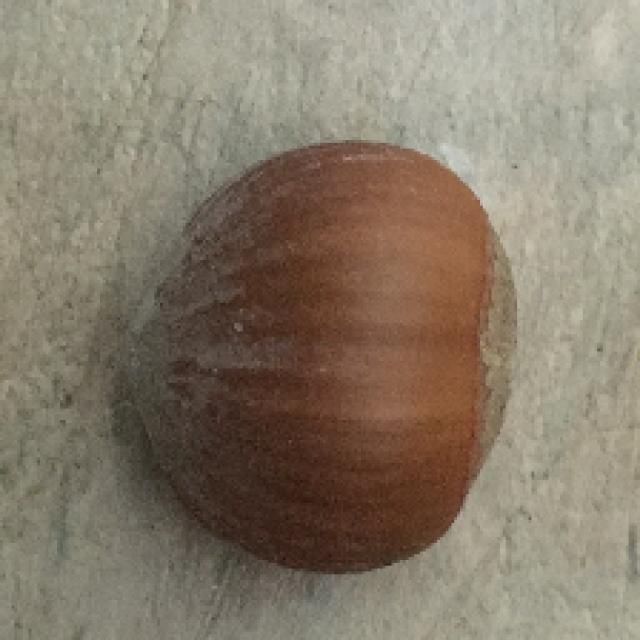QualityHazelnut: (121, 135, 521, 578)
